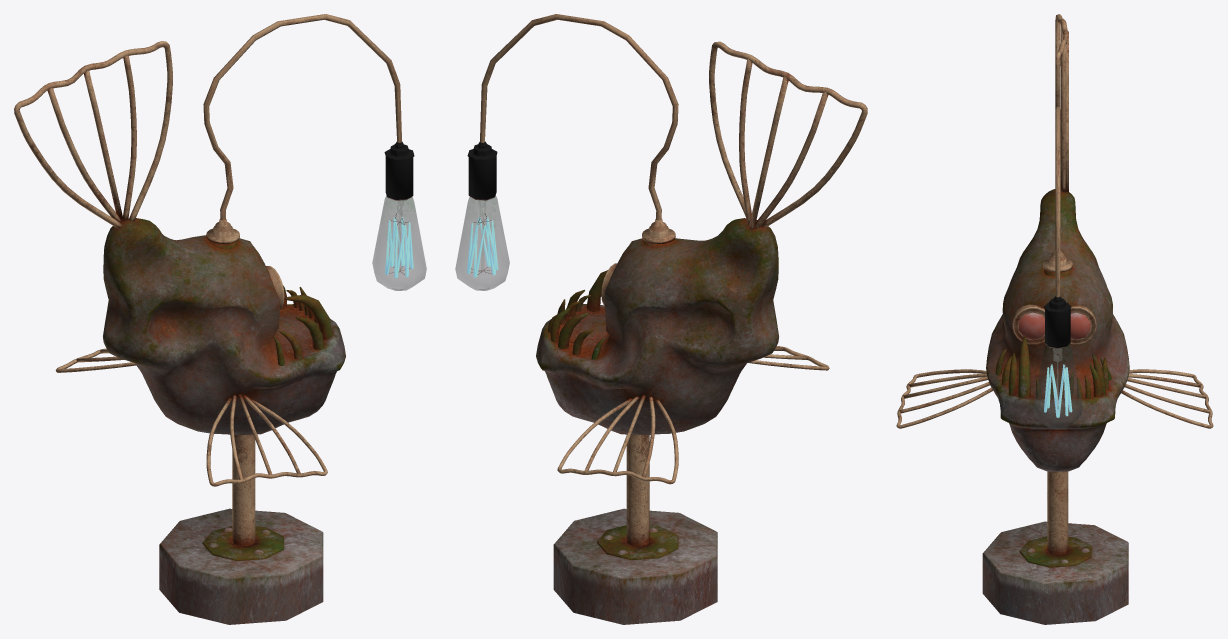
3 views of the same model, side by side, from view 1: azimuth 30°, elevation 25°; view 2: azimuth 150°, elevation 25°; view 3: azimuth 270°, elevation 25° (orthographic). The views are drawn at different scales.
Parts seen in each view (by area): view 1: fish, lampbulb001, LampHolder_Low002, lampinsidelights001; view 2: fish, lampbulb001, LampHolder_Low002, lampinsidelights001; view 3: fish, lampbulb001, LampHolder_Low002, lampinsidelights001.
Boxes of the visible parts, x1=… form: fish: x1=14, y1=14, x2=401, y2=624; lampbulb001: x1=372, y1=196, x2=426, y2=290; LampHolder_Low002: x1=384, y1=141, x2=414, y2=199; lampinsidelights001: x1=385, y1=217, x2=413, y2=278; fish: x1=480, y1=14, x2=867, y2=624; lampbulb001: x1=455, y1=195, x2=509, y2=290; LampHolder_Low002: x1=467, y1=141, x2=497, y2=199; lampinsidelights001: x1=467, y1=217, x2=498, y2=277; fish: x1=896, y1=14, x2=1213, y2=624; lampbulb001: x1=1032, y1=344, x2=1082, y2=429; LampHolder_Low002: x1=1044, y1=296, x2=1071, y2=348; lampinsidelights001: x1=1044, y1=364, x2=1072, y2=417.
Size of the model in its own units: 1.51 by 2 by 1.14.
Materials: 2 (2 with a texture image).
